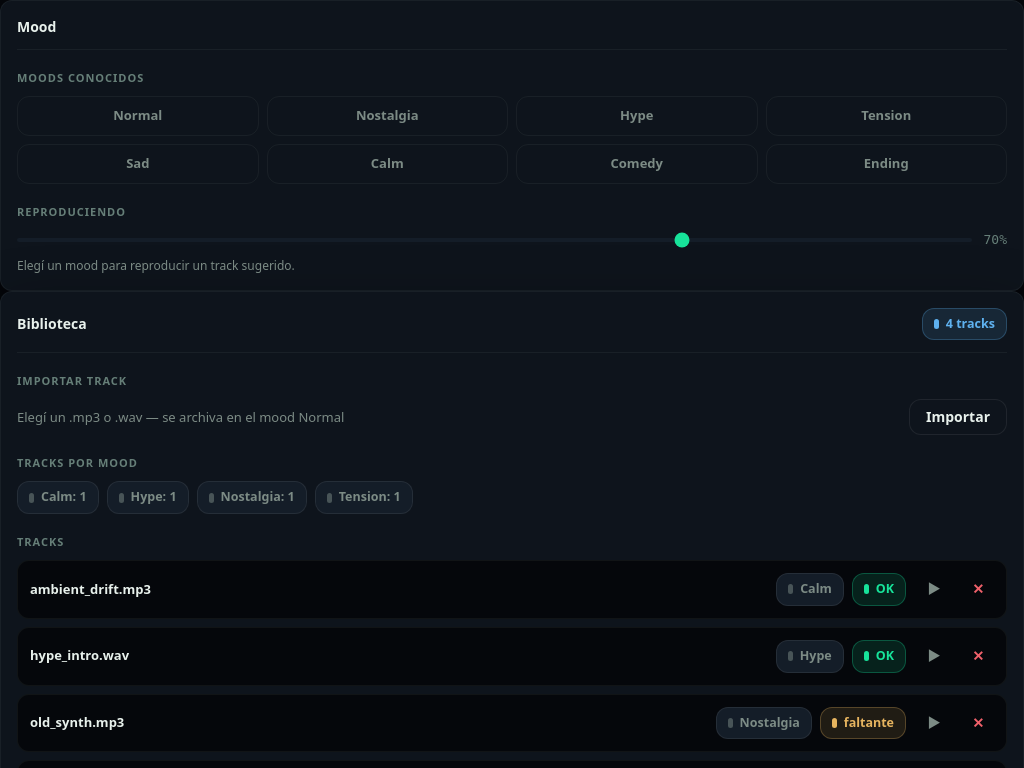
Test: MusicPanel Importar is wired to the native dialog + POST /api/music/import › falls back to a generic message on an unmapped detail, never the token
The image size is (1024, 768).
What coordinates should you click on to do the following:
click the button "Importar"
I would click on:
 (958, 417)
Its box is x1=909 y1=399 x2=1007 y2=435.
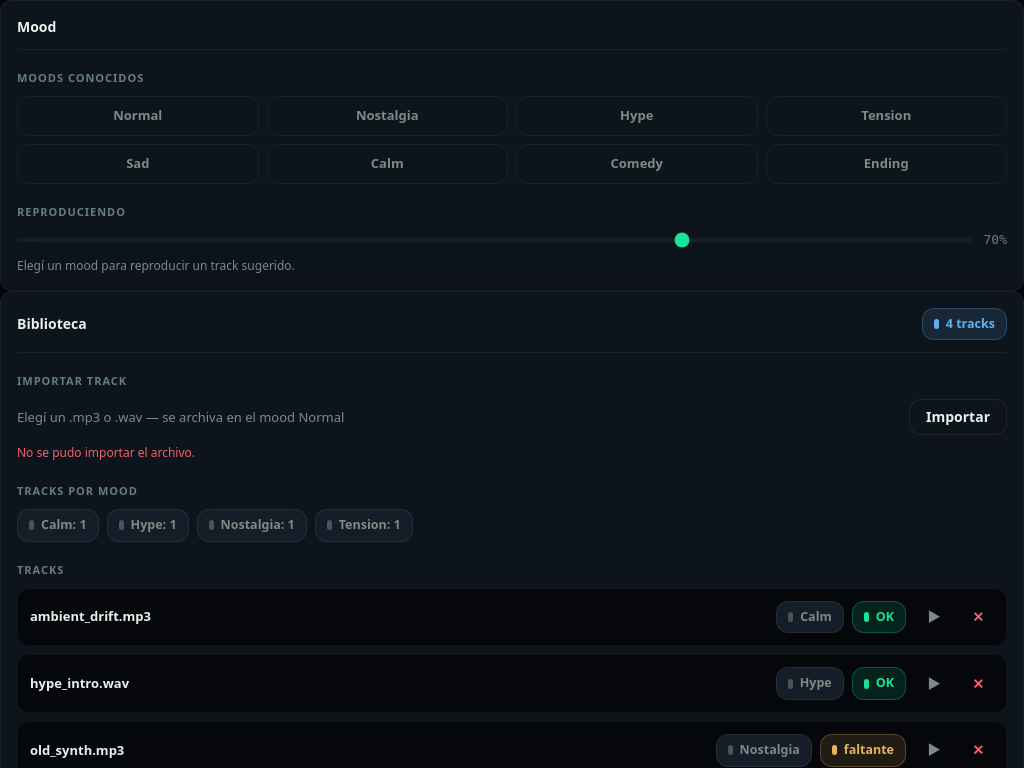
Expected: the message reads "No se pudo importar el archivo.", x1=17 y1=444 x2=195 y2=461
